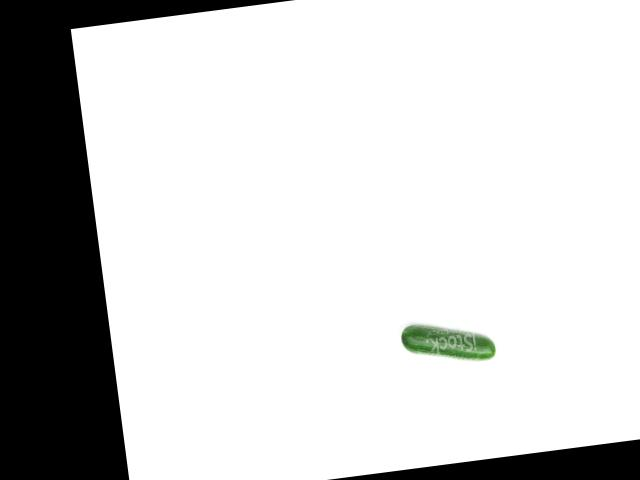cucumber: (399, 315, 496, 370)
